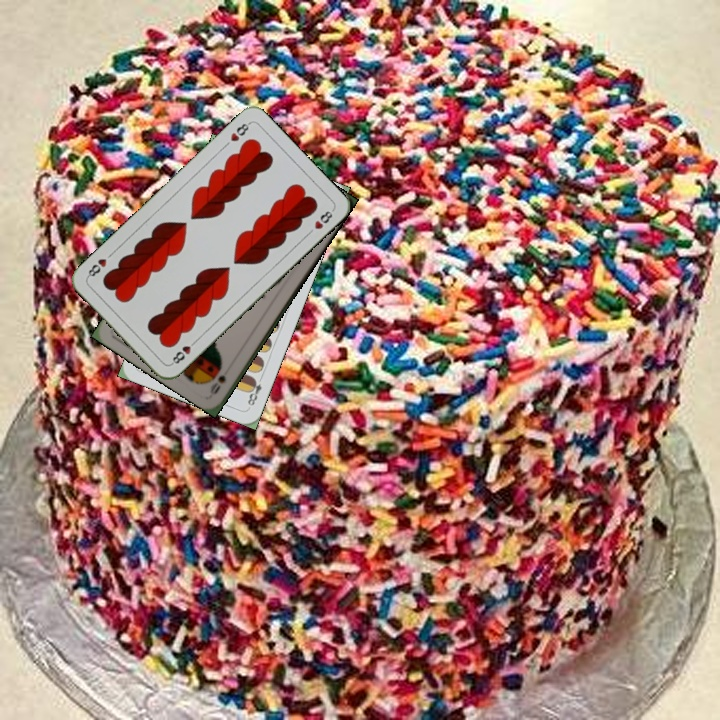E8: (244, 371, 266, 408)
H8: (167, 336, 200, 367), (226, 118, 253, 144)
SO: (206, 371, 228, 397)
